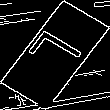L_SE: (21, 28, 89, 82)
